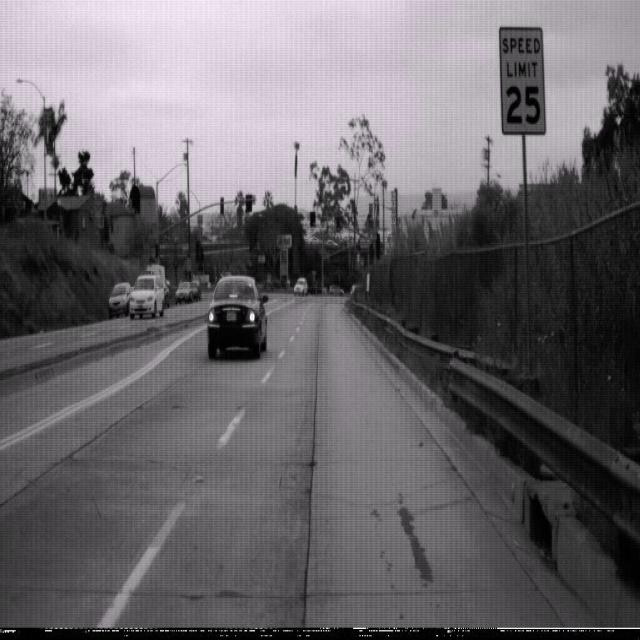speedLimit25: (498, 25, 546, 136)
